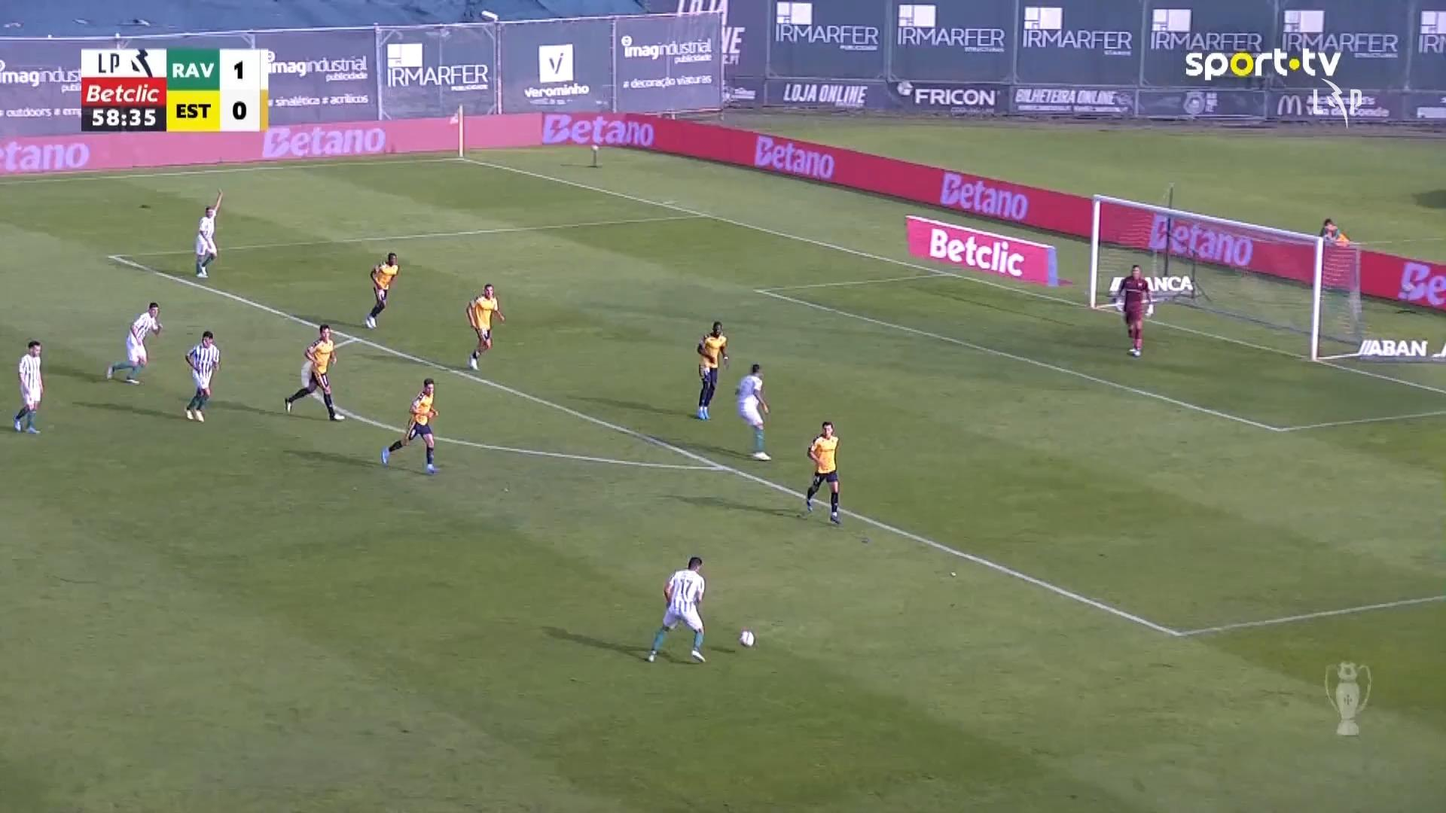ball: (739, 629, 755, 647)
goalkeeper: (1115, 263, 1154, 356)
player: (645, 556, 706, 662), (283, 323, 345, 421), (380, 377, 441, 473), (104, 301, 162, 385), (804, 420, 841, 524), (734, 363, 771, 460), (465, 282, 505, 370), (694, 321, 728, 420), (184, 330, 220, 422), (12, 340, 44, 434), (364, 251, 399, 329), (194, 188, 224, 278), (1319, 217, 1349, 245)
